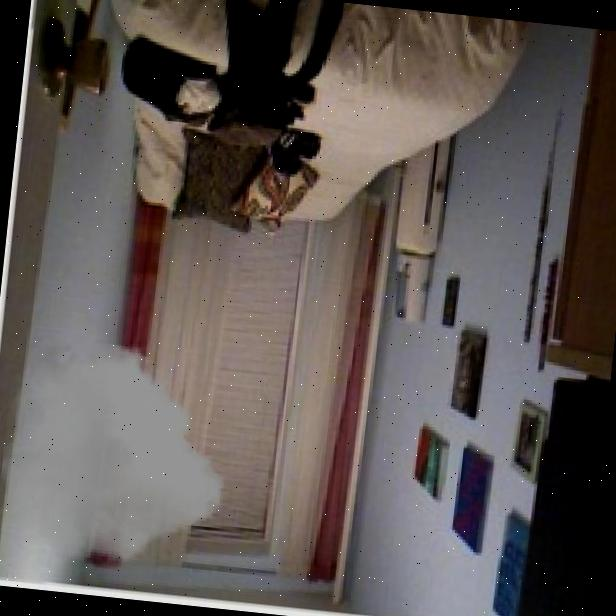smoke: (0, 329, 238, 602)
